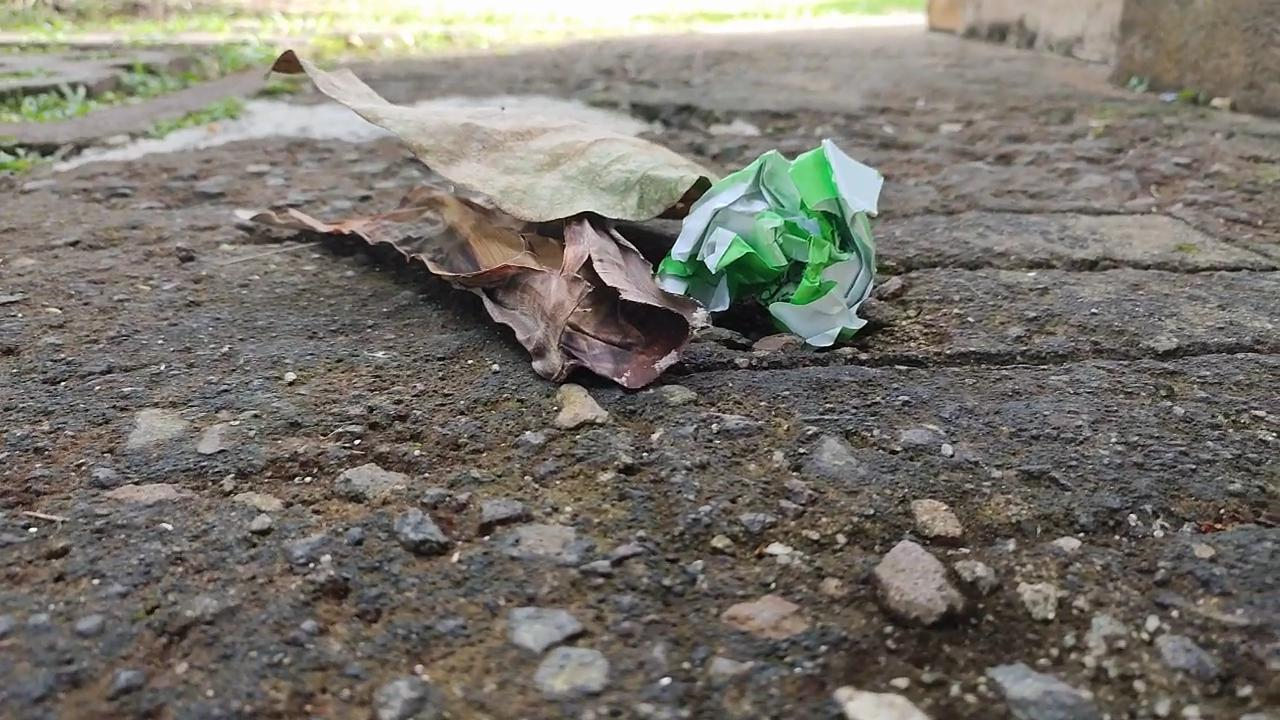Paper: (666, 138, 889, 355)
